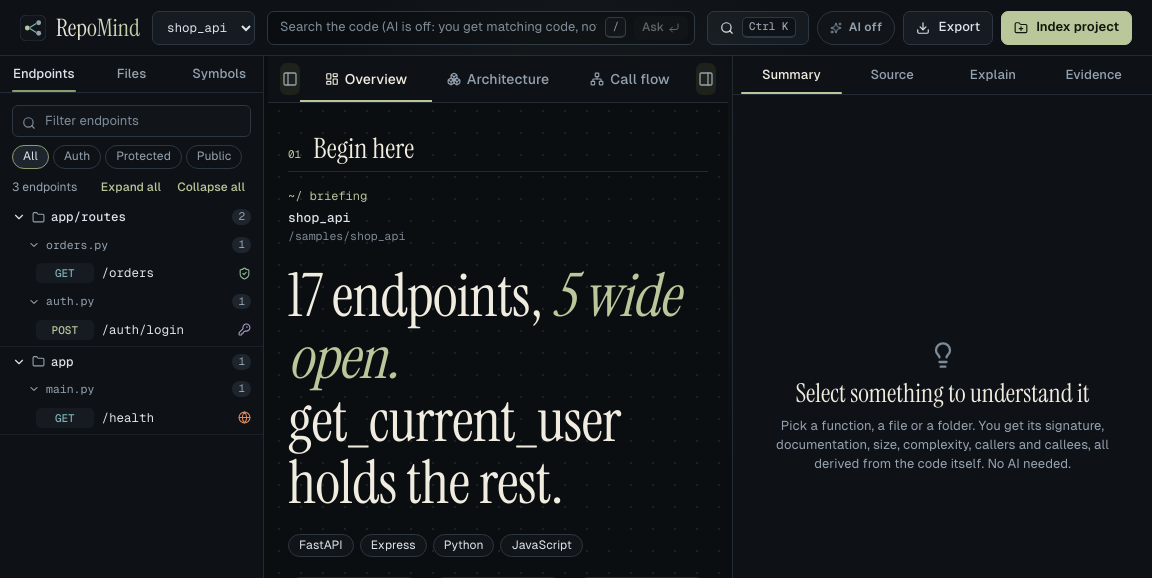
Test: Navigation › opens the command palette with Ctrl+K and finds an endpoint
The image size is (1152, 578).
Expected: the heading "shop_api" is shown, [288,209,350,226]
Press k
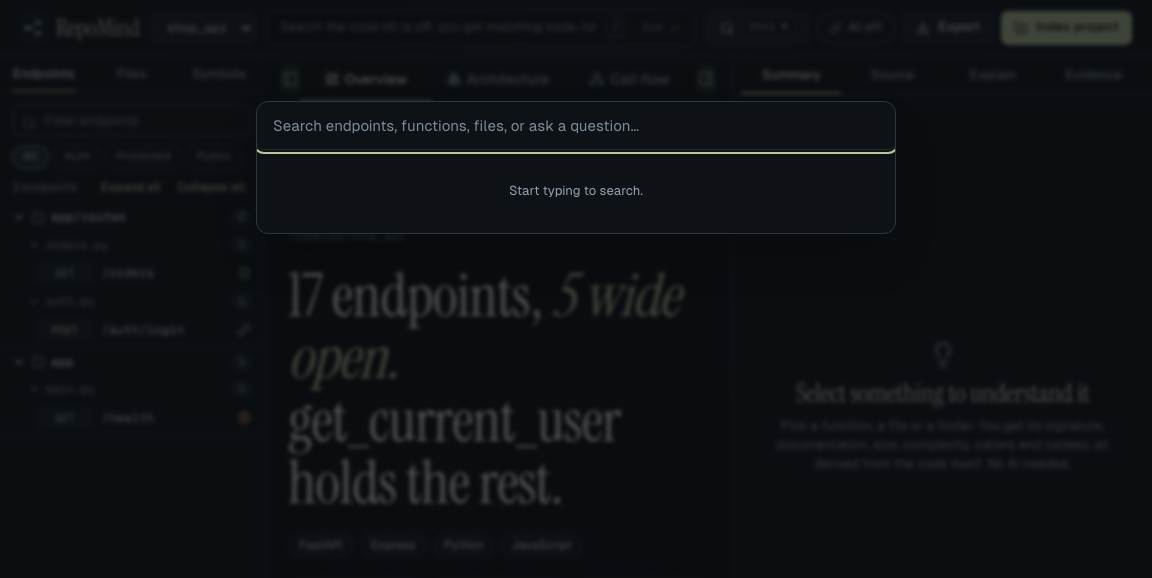
Type "orders" into the dropdown with placeholder "Search endpoints, functions, files, or ask a question…" at x=576, y=126, box [257,102,895,150]
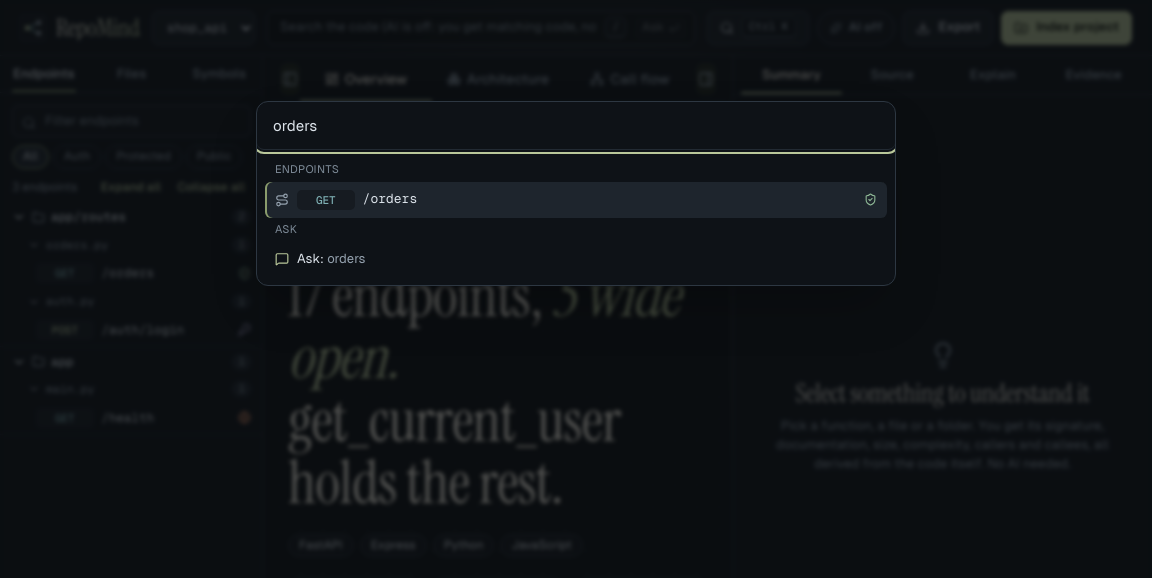
Expected: the text "/orders" is shown, [363,190,417,209]
